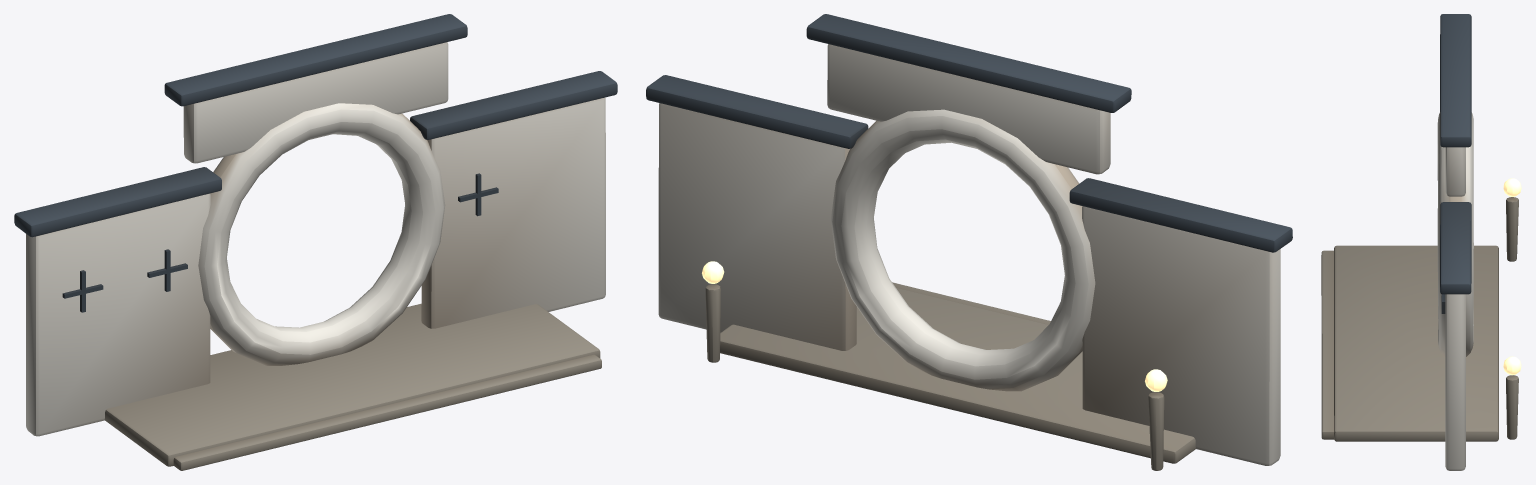
The picture shows the model from 3 angles, left to right: view 1: azimuth 30°, elevation 25°; view 2: azimuth 150°, elevation 25°; view 3: azimuth 270°, elevation 25°; orthographic projection. The views are drawn at different scales.
Parts seen in each view (by area): view 1: gate_3c917fcc; view 2: gate_3c917fcc; view 3: gate_3c917fcc.
Part boxes in pixels (x1,y1,x2,y2): gate_3c917fcc: [14, 14, 617, 470]; gate_3c917fcc: [646, 14, 1292, 470]; gate_3c917fcc: [1321, 14, 1521, 470].
Bounding box in the file's own units: 7.64 × 3.87 × 2.55.
